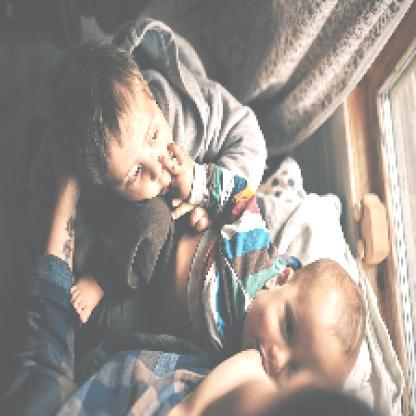child: (70, 143, 369, 390), (47, 18, 270, 224)
